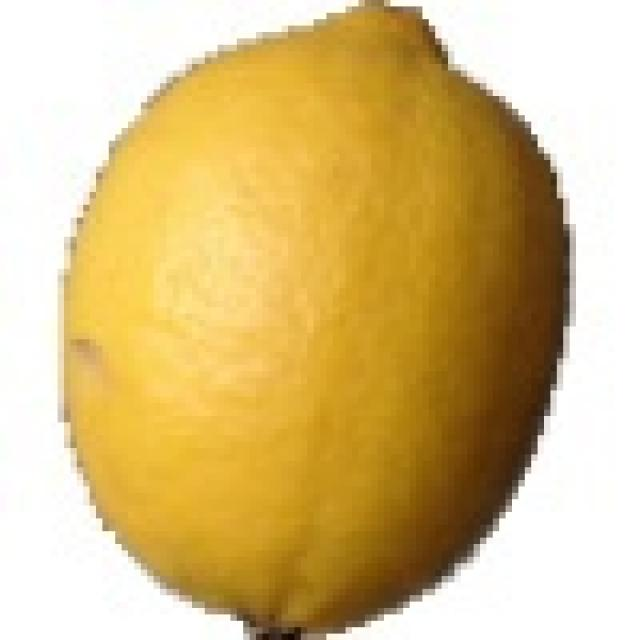lemon: (26, 0, 573, 636)
